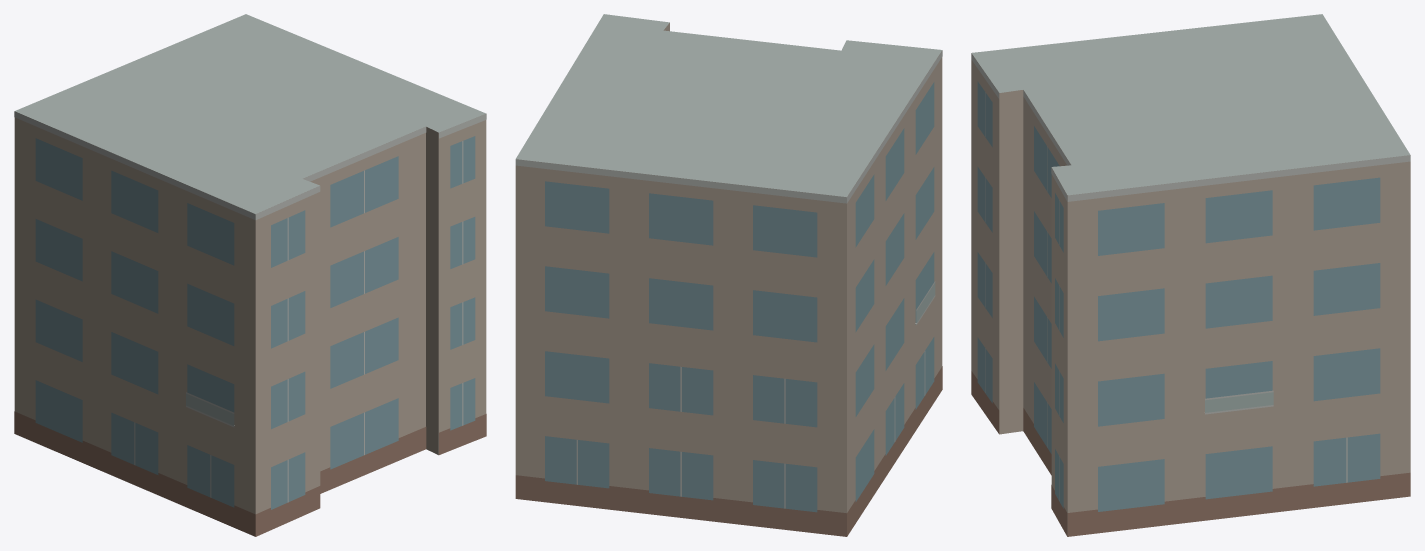
Rendered from survey-upis-32690759.glb.
3 renders of one model, left to right at view 1: azimuth 30°, elevation 25°; view 2: azimuth 150°, elevation 25°; view 3: azimuth 270°, elevation 25°, orthographic. The views are drawn at different scales.
Parts seen in each view (by area): view 1: survey-upis-32690759.tmp; view 2: survey-upis-32690759.tmp; view 3: survey-upis-32690759.tmp.
Boxes of the visible parts, x1,y1,x2,y2 form: survey-upis-32690759.tmp: (14, 14, 486, 536); survey-upis-32690759.tmp: (515, 14, 942, 536); survey-upis-32690759.tmp: (971, 14, 1410, 536).
Bounding box in the file's own units: 14.72 × 12.9 × 15.05.
